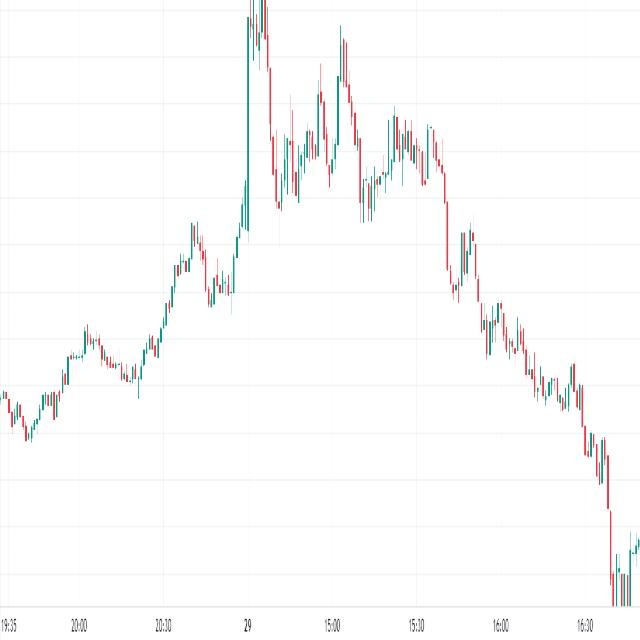Channel-down: (438, 159, 623, 538)
